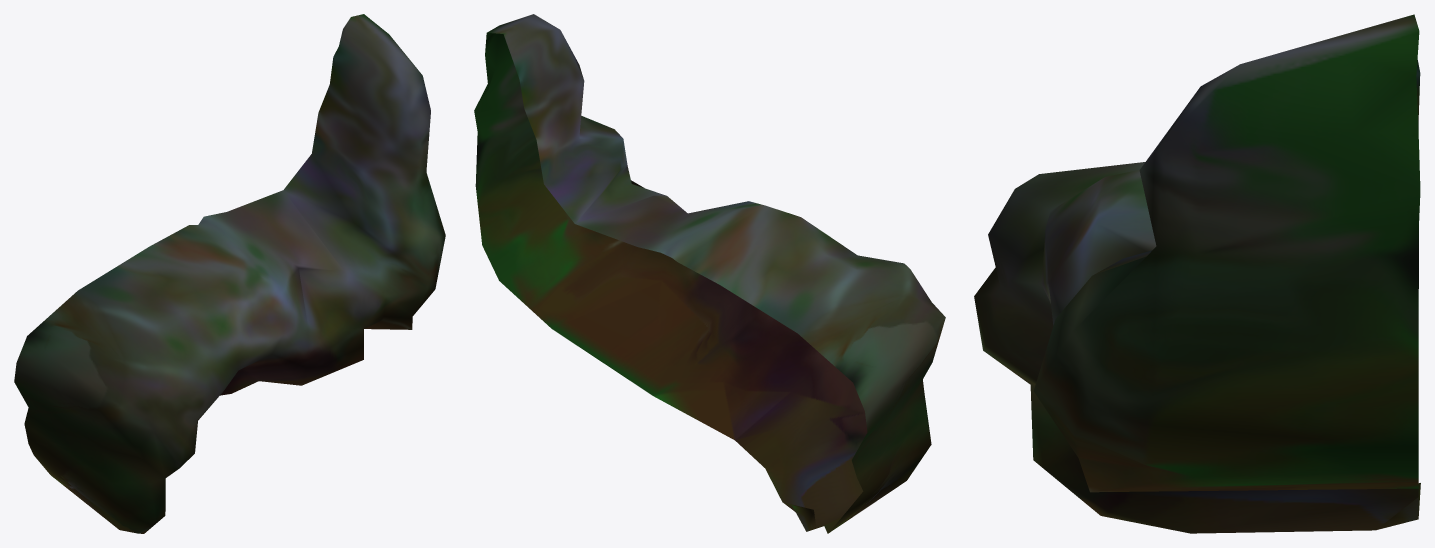
File: rock3.fbx
3 renders of one model, left to right at view 1: azimuth 30°, elevation 25°; view 2: azimuth 150°, elevation 25°; view 3: azimuth 270°, elevation 25°, orthographic. The views are drawn at different scales.
Visible parts, largest first — view 1: Sphere.002; view 2: Sphere.002; view 3: Sphere.002.
Part boxes in pixels (x1,y1,x2,y2): Sphere.002: [14, 14, 445, 533]; Sphere.002: [474, 14, 945, 533]; Sphere.002: [974, 14, 1420, 533].
Size of the model in its own units: 7782 by 8168 by 4168.
